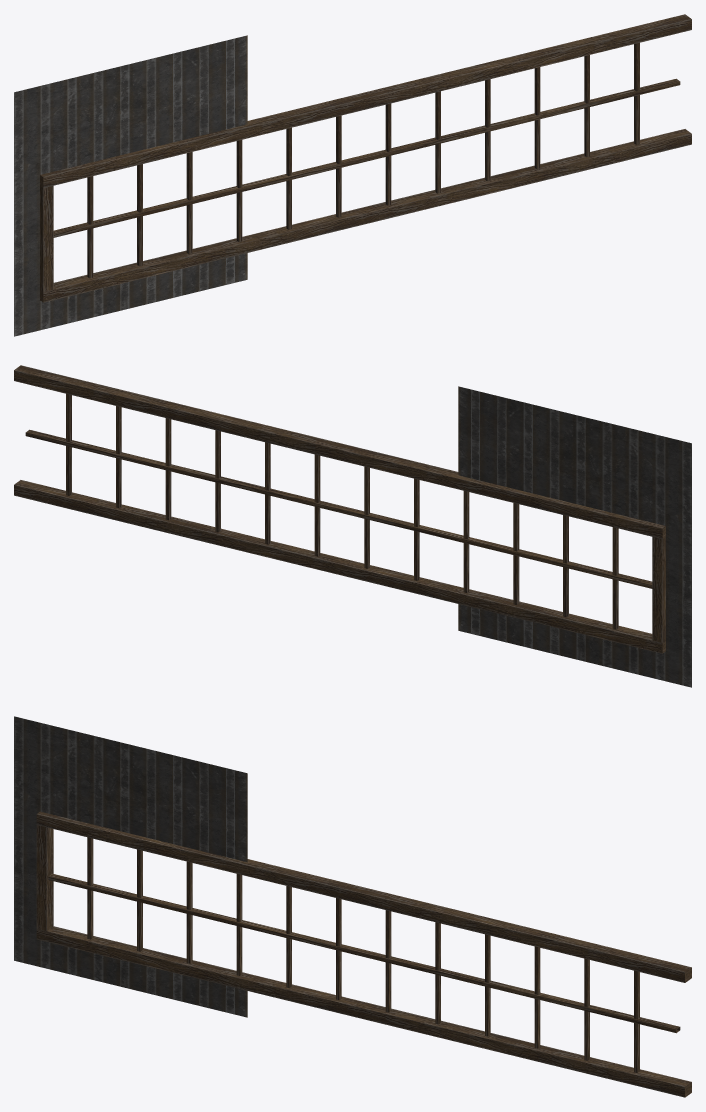
File: window_start12x4.fbx
The picture shows the model from 3 angles, top to bottom: view 1: azimuth 30°, elevation 25°; view 2: azimuth 150°, elevation 25°; view 3: azimuth 330°, elevation 25°; orthographic projection.
Parts seen in each view (by area): view 1: window_start12x4; view 2: window_start12x4; view 3: window_start12x4.
Part boxes in pixels (x1=…): window_start12x4: x1=14, y1=14, x2=691, y2=336; window_start12x4: x1=14, y1=365, x2=691, y2=687; window_start12x4: x1=14, y1=716, x2=691, y2=1097.
Bounding box in the file's own units: 1155 × 400 × 20.34.
